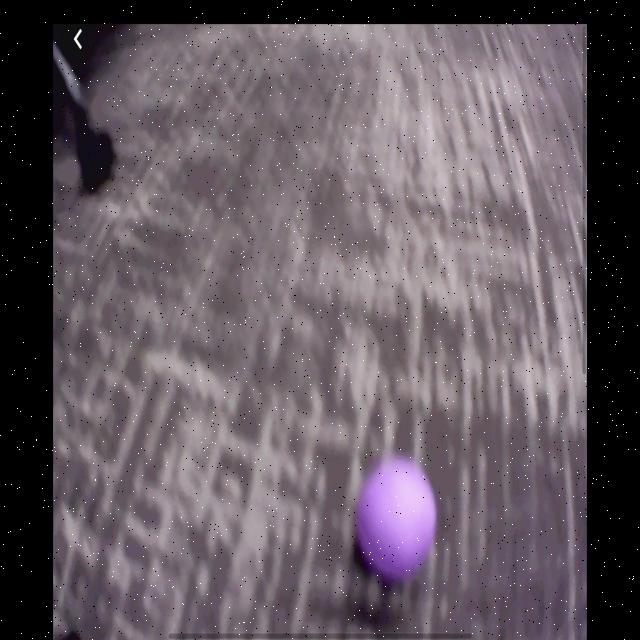ball: (356, 456, 439, 584)
